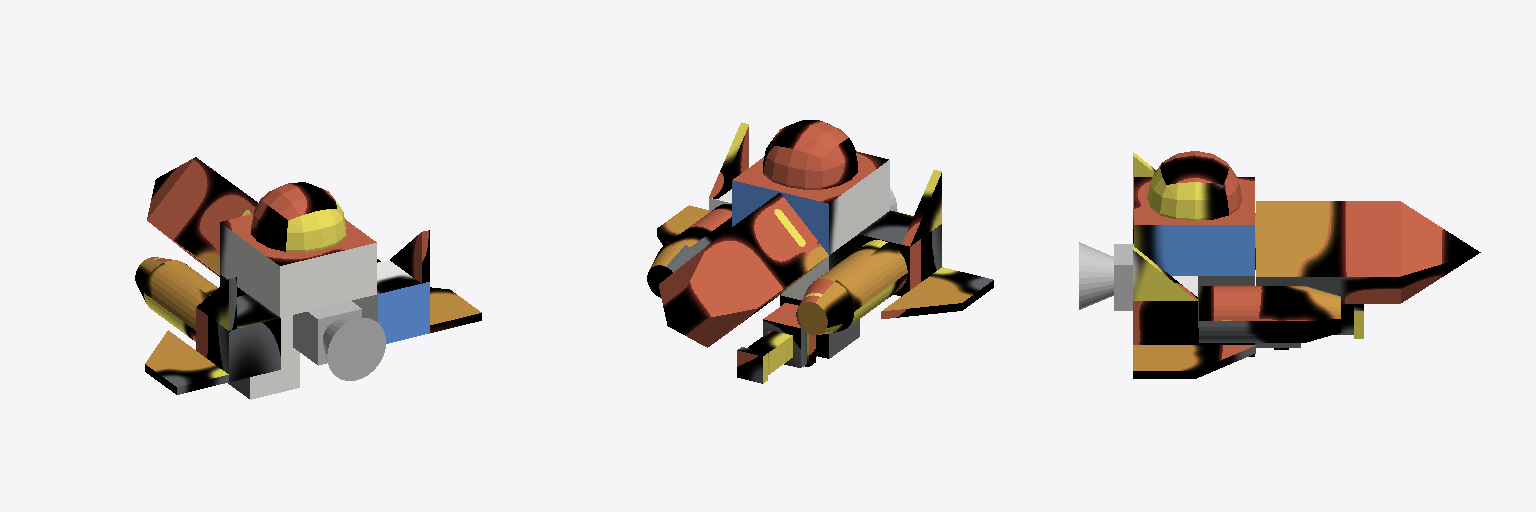
3 renders of one model, left to right at view 1: azimuth 30°, elevation 25°; view 2: azimuth 150°, elevation 25°; view 3: azimuth 270°, elevation 25°, orthographic.
Visible parts, largest first — view 1: 立方体.002; view 2: 立方体.002; view 3: 立方体.002.
Part boxes in pixels (bbox=[...]): 立方体.002: bbox=[135, 157, 481, 399]; 立方体.002: bbox=[647, 120, 993, 383]; 立方体.002: bbox=[1079, 151, 1480, 378].
Bounding box in the file's own units: 5.44 × 3.42 × 6.2.
2 materials, 1 textured.